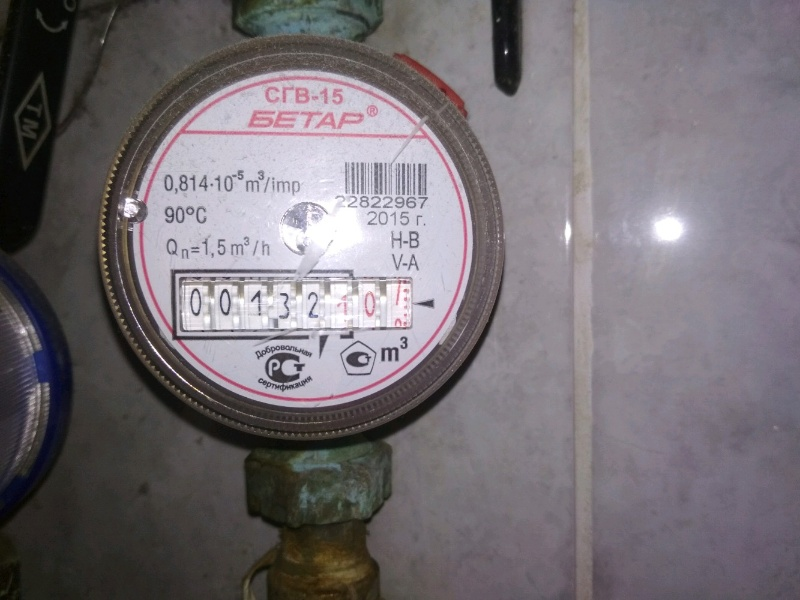meter: (162, 273, 407, 324)
